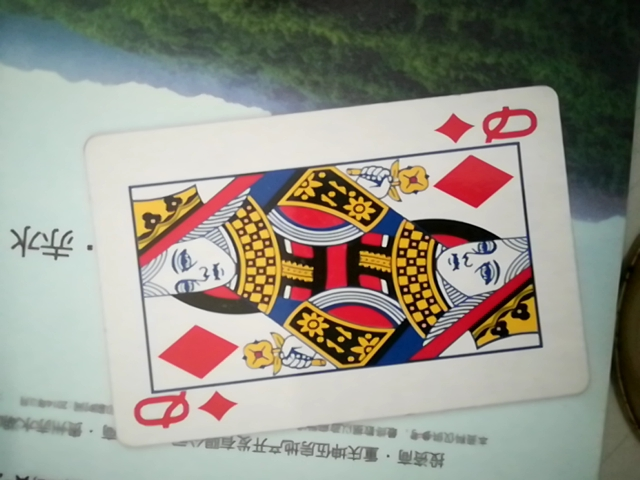fk q: (84, 82, 587, 447)
